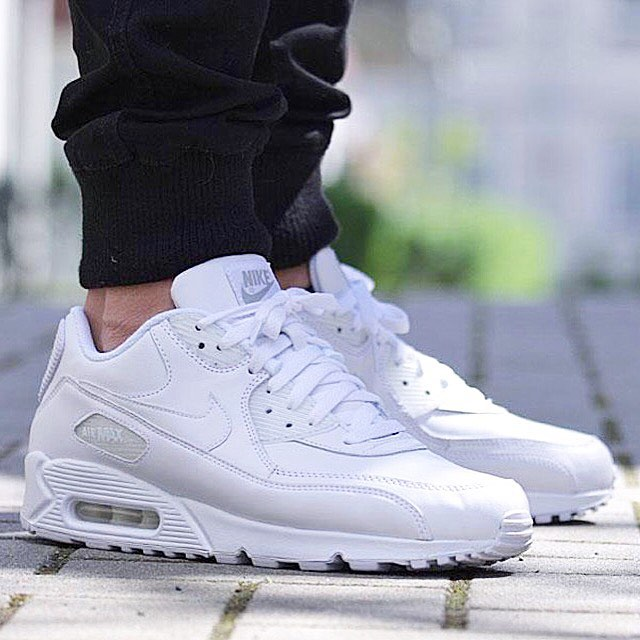sneaker: (1, 223, 546, 591), (223, 219, 630, 537)
